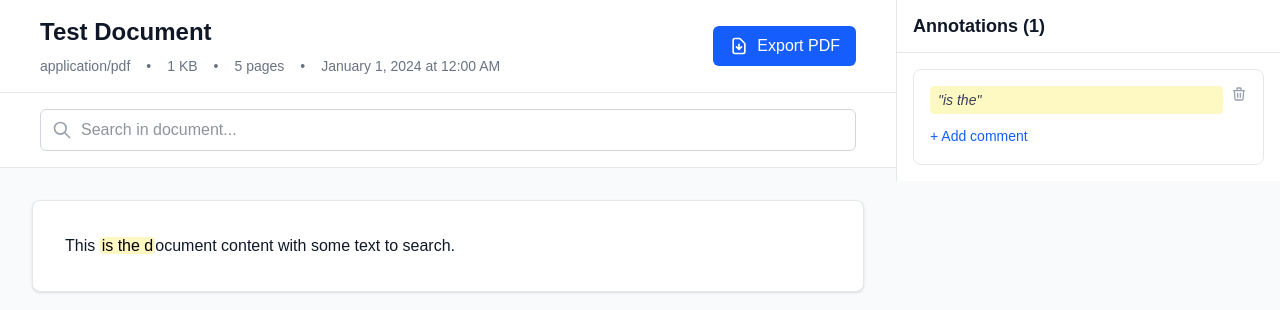
DocumentViewer › should show search results count
The image size is (1280, 310).
Expected: the heading "Test Document" is shown, [40,18,212,45]
Type "text" into the field with placeholder "Search in document..." at (448, 130), box [40,109,856,151]
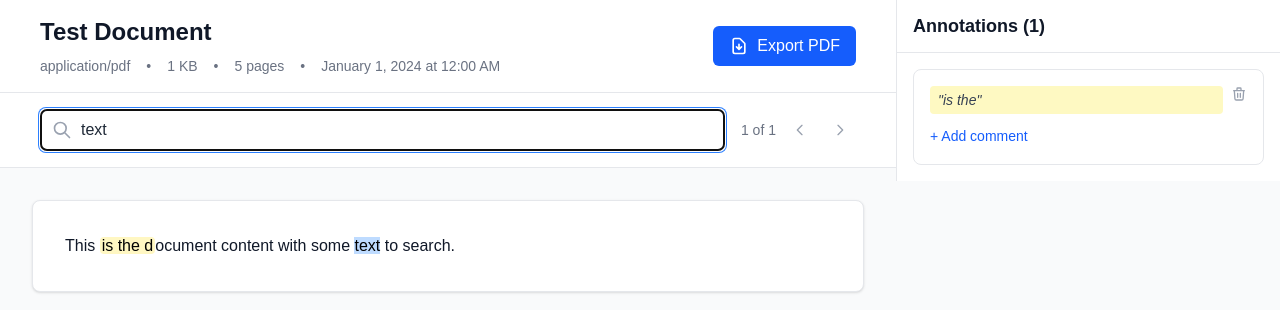
Result: the text "1 of 1" is shown at [741,120,776,140]
